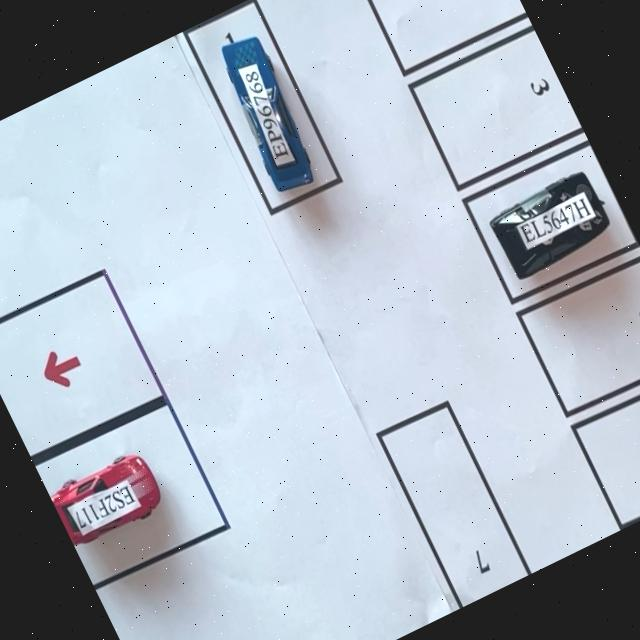car: (222, 35, 312, 191), (491, 172, 610, 279), (51, 454, 160, 545)
